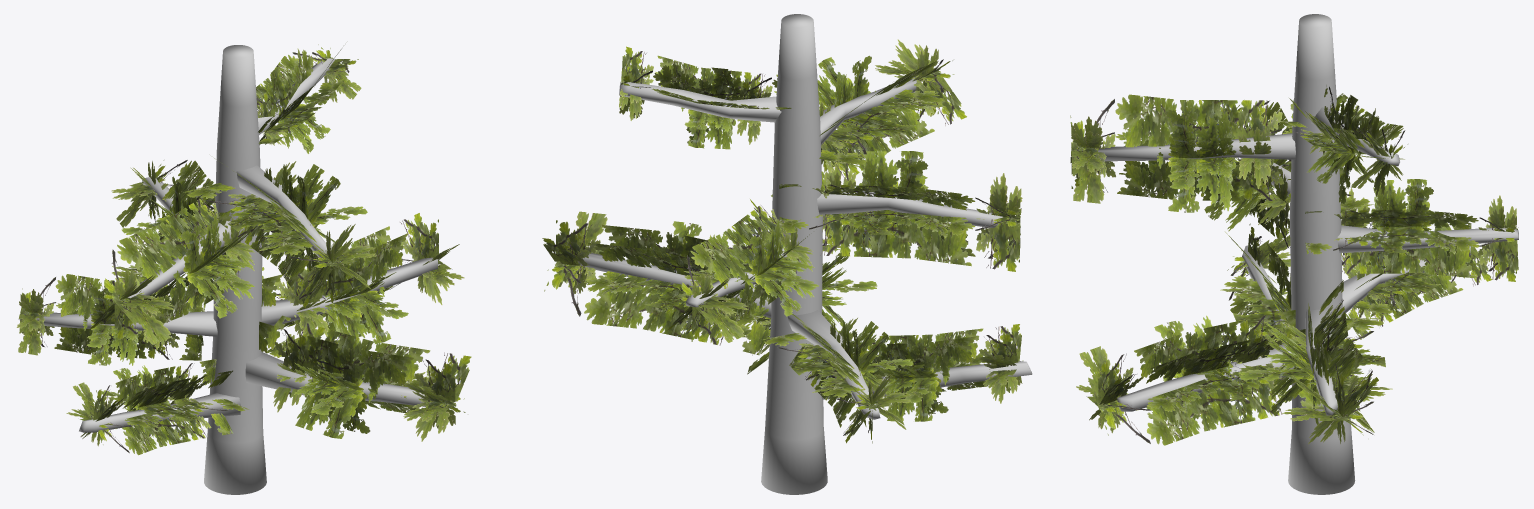
File: nuviastree.fbx
3 renders of one model, left to right at view 1: azimuth 30°, elevation 25°; view 2: azimuth 150°, elevation 25°; view 3: azimuth 270°, elevation 25°, orthographic. The views are drawn at different scales.
Parts seen in each view (by area): view 1: Cylinder, Plane.001, Plane.004, Plane.002, Plane, Plane.007, Plane.006, Plane.003, Plane.005; view 2: Cylinder, Plane.004, Plane, Plane.005, Plane.002, Plane.007, Plane.006, Plane.003, Plane.001; view 3: Cylinder, Plane.002, Plane.001, Plane.005, Plane, Plane.003, Plane.007, Plane.006, Plane.004.
Part boxes in pixels (box(x1,y1,x2,y2)): Cylinder: box(19, 45, 437, 494); Plane.001: box(259, 315, 471, 441); Plane.004: box(89, 198, 254, 344); Plane.002: box(183, 158, 376, 308); Plane: box(261, 213, 464, 343); Plane.007: box(66, 359, 249, 455); Plane.006: box(16, 274, 205, 365); Plane.003: box(256, 44, 361, 153); Plane.005: box(111, 160, 215, 280); Cylinder: box(578, 14, 1032, 494); Plane.004: box(779, 151, 1022, 271); Plane: box(542, 211, 769, 355); Plane.005: box(667, 194, 818, 342); Plane.002: box(817, 39, 966, 198); Plane.007: box(864, 324, 1023, 421); Plane.006: box(761, 314, 913, 443); Plane.003: box(619, 46, 791, 149); Plane.001: box(722, 199, 877, 374); Cylinder: box(1098, 14, 1518, 494); Plane.002: box(1070, 94, 1293, 212); Plane.001: box(1076, 310, 1322, 445); Plane.005: box(1305, 179, 1518, 281); Plane: box(1238, 280, 1392, 444); Plane.003: box(1280, 85, 1407, 203); Plane.007: box(1220, 223, 1291, 385); Plane.006: box(1342, 223, 1492, 339); Plane.004: box(1195, 100, 1373, 247).
Bounding box in the file's own units: 1994 × 2006 × 1795.
